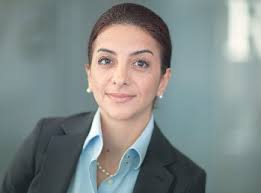middle_eastern_Female: (87, 15, 171, 124)
